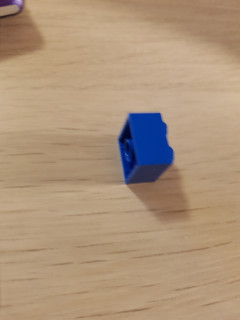2x2 blue: (115, 109, 178, 187)
